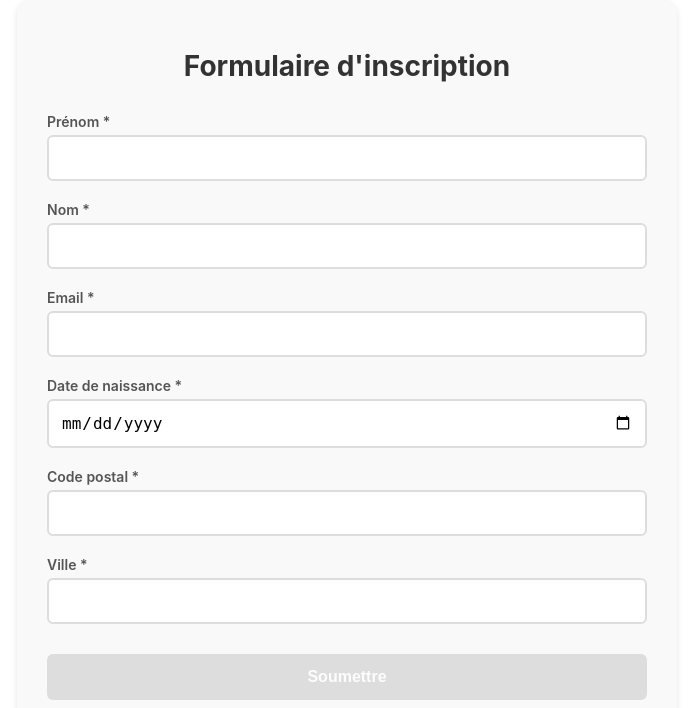
Test case: UserForm - Tests d'intégration › Soumission complète du formulaire › gère la soumission avec validation des erreurs
Type "Jean123" into the field labelled "Prénom *" at (347, 158), box [47,135,647,181]
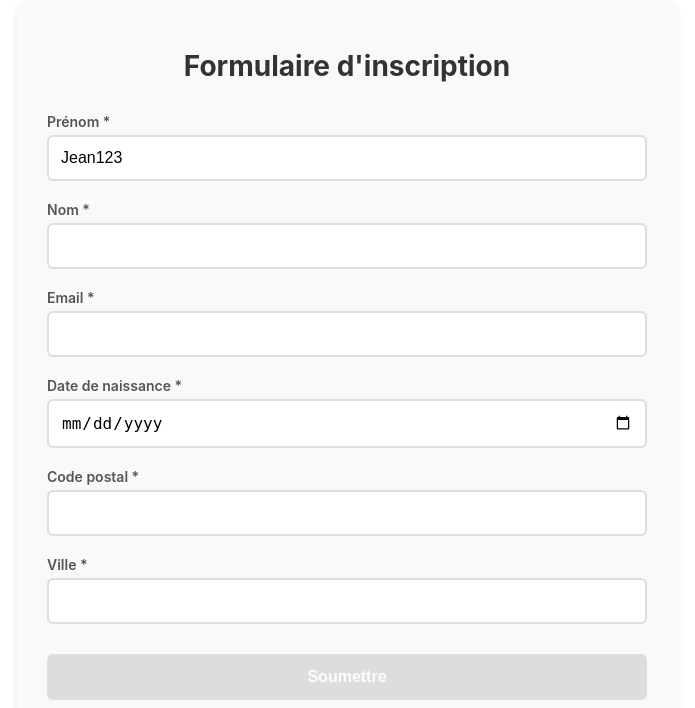
Type "invalide" into the field labelled "Email *" at (347, 334), box [47,311,647,357]
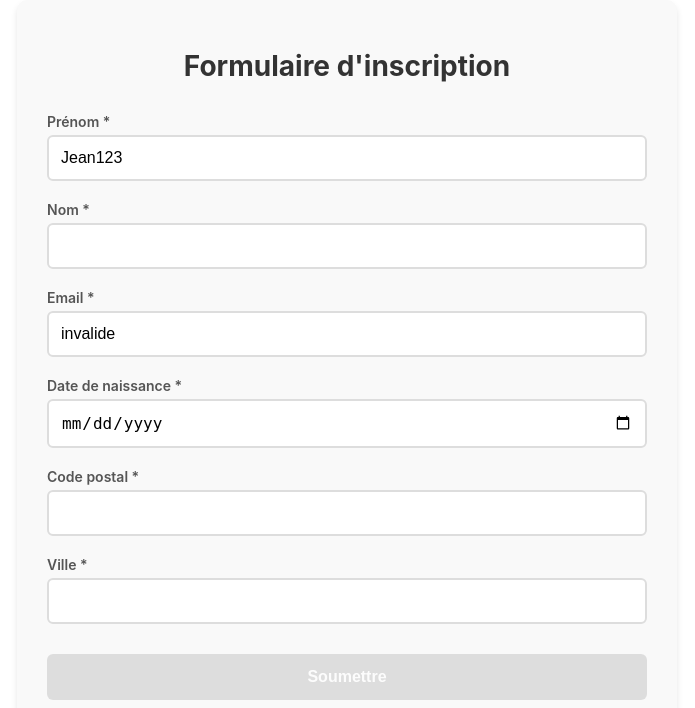
Submit the form with test id "registration-form"
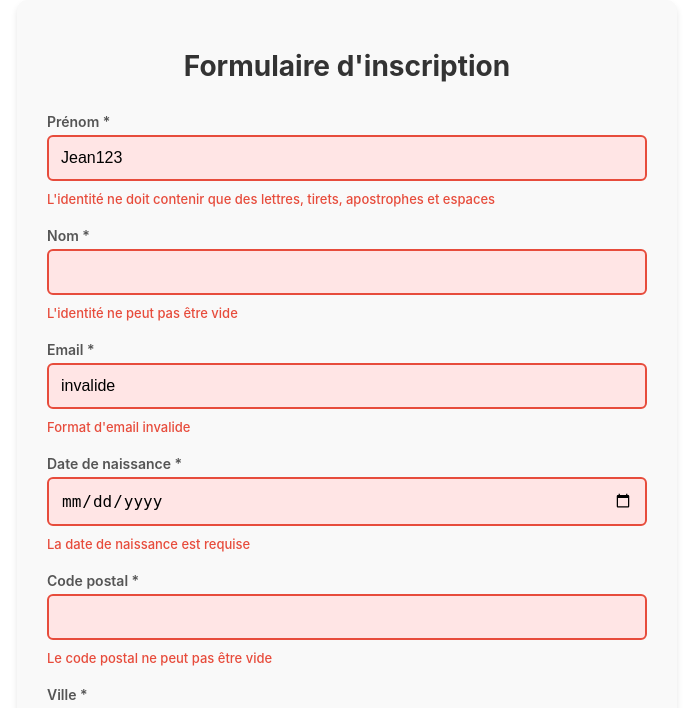
Expected: the message "L'identité ne doit contenir que des lettres, tirets, apostrophes et espaces" is shown, [47,191,495,207]
